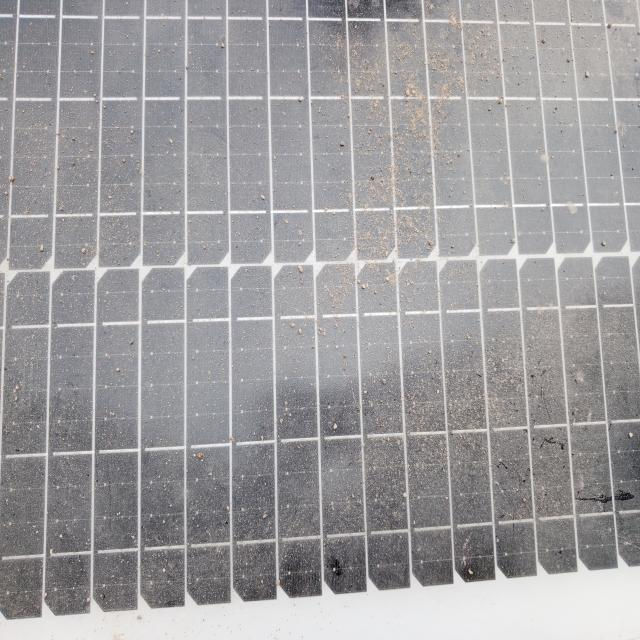Surface Contaminant: (13, 12, 626, 602)
